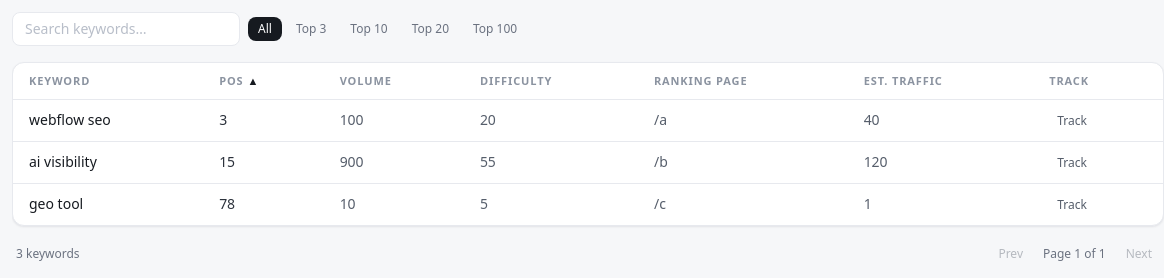
it: OrganicKeywordsTable › the Top 10 position filter keeps only position <= 10
The image size is (1164, 278).
Click the button "Top 10": x=369, y=29 x1=340 y1=17 x2=398 y2=41
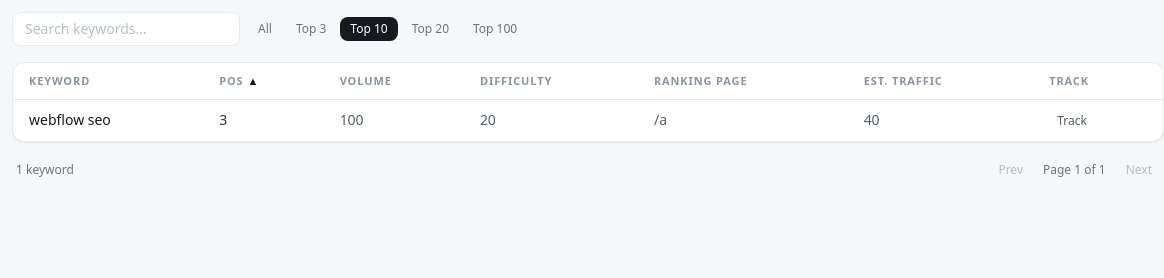
Check: the text "webflow seo" is shown, box x1=13 y1=99 x2=203 y2=141
Check: the text "ai visibility" is gone
Check: the text "geo tool" is gone
